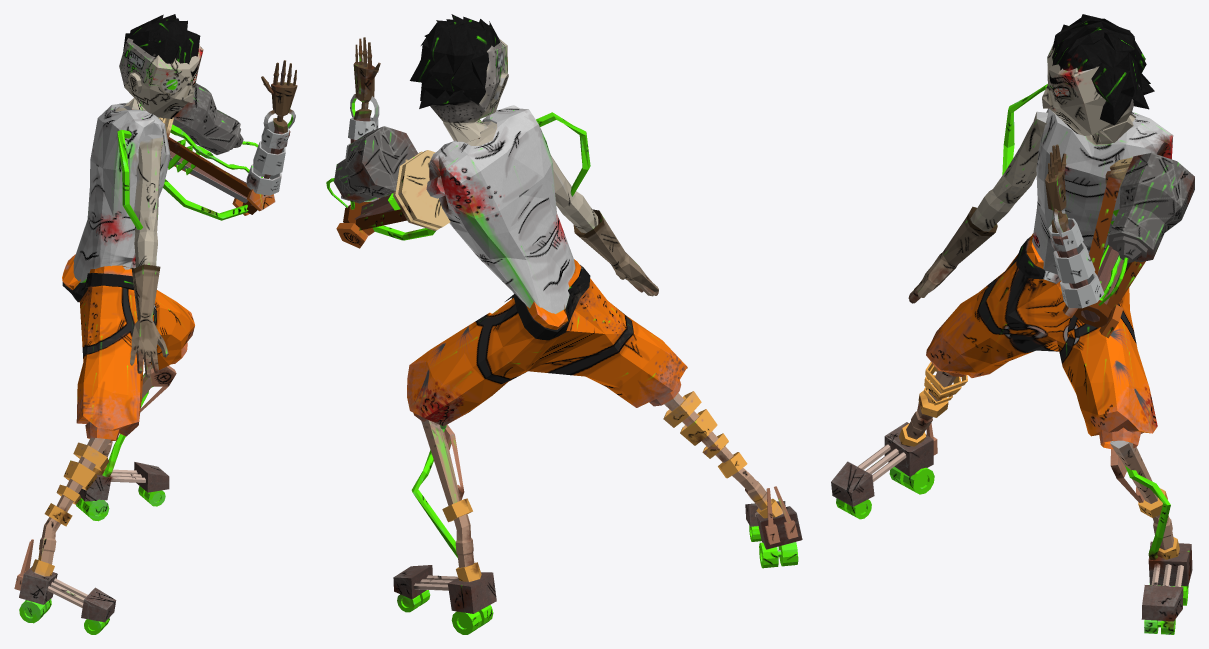
Rendered from CyborgFINALAnimation_000051.obj.
The picture shows the model from 3 angles, left to right: view 1: azimuth 30°, elevation 25°; view 2: azimuth 150°, elevation 25°; view 3: azimuth 270°, elevation 25°; orthographic projection. The views are drawn at different scales.
Parts seen in each view (by area): view 1: CyborgMesh_Cube.002; view 2: CyborgMesh_Cube.002; view 3: CyborgMesh_Cube.002.
Part boxes in pixels (x1,y1,x2,y2): CyborgMesh_Cube.002: (14,14,297,634); CyborgMesh_Cube.002: (326,14,802,634); CyborgMesh_Cube.002: (831,14,1194,634).
Size of the model in its own units: 6.03 by 8.66 by 4.7.
